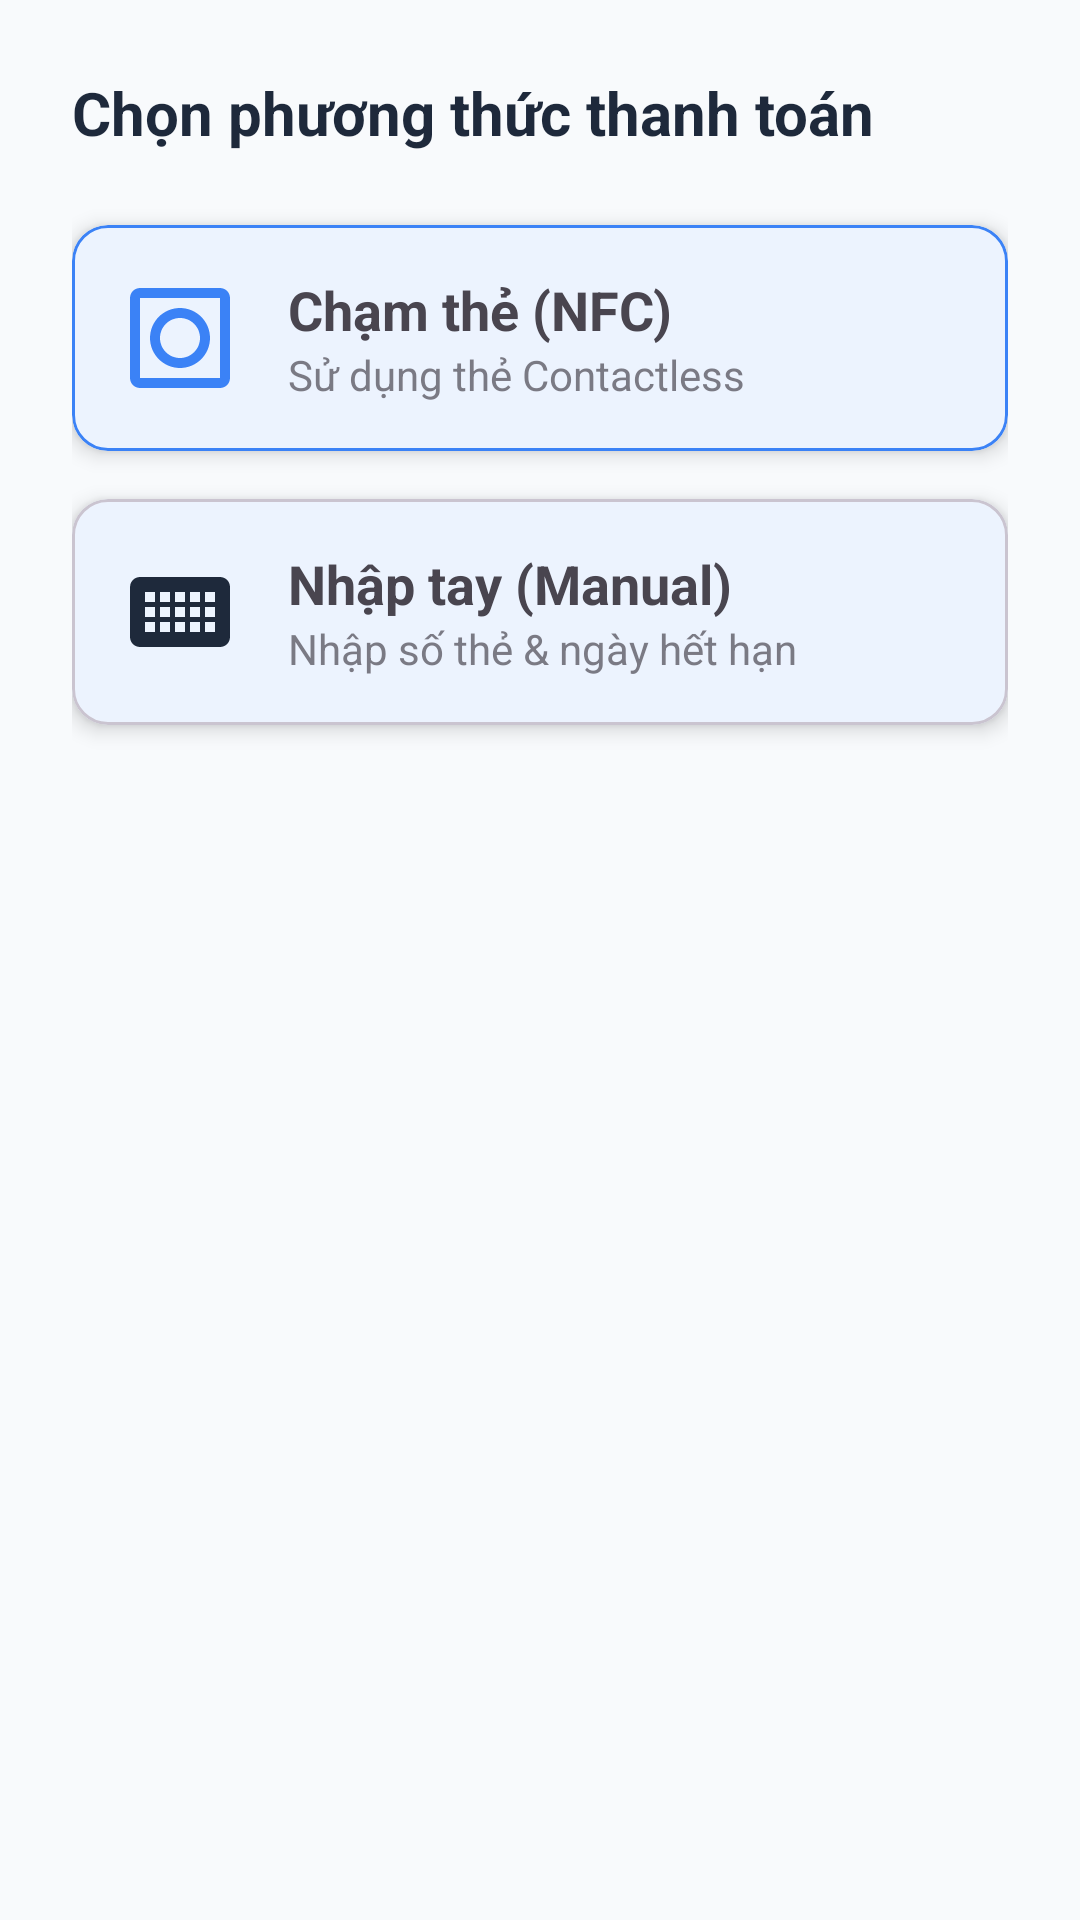

Screen size 1080 × 1920. Icon name, then its box in pixels as (x1, y1, x2, y2):
keyboard: (130, 577, 230, 647)
